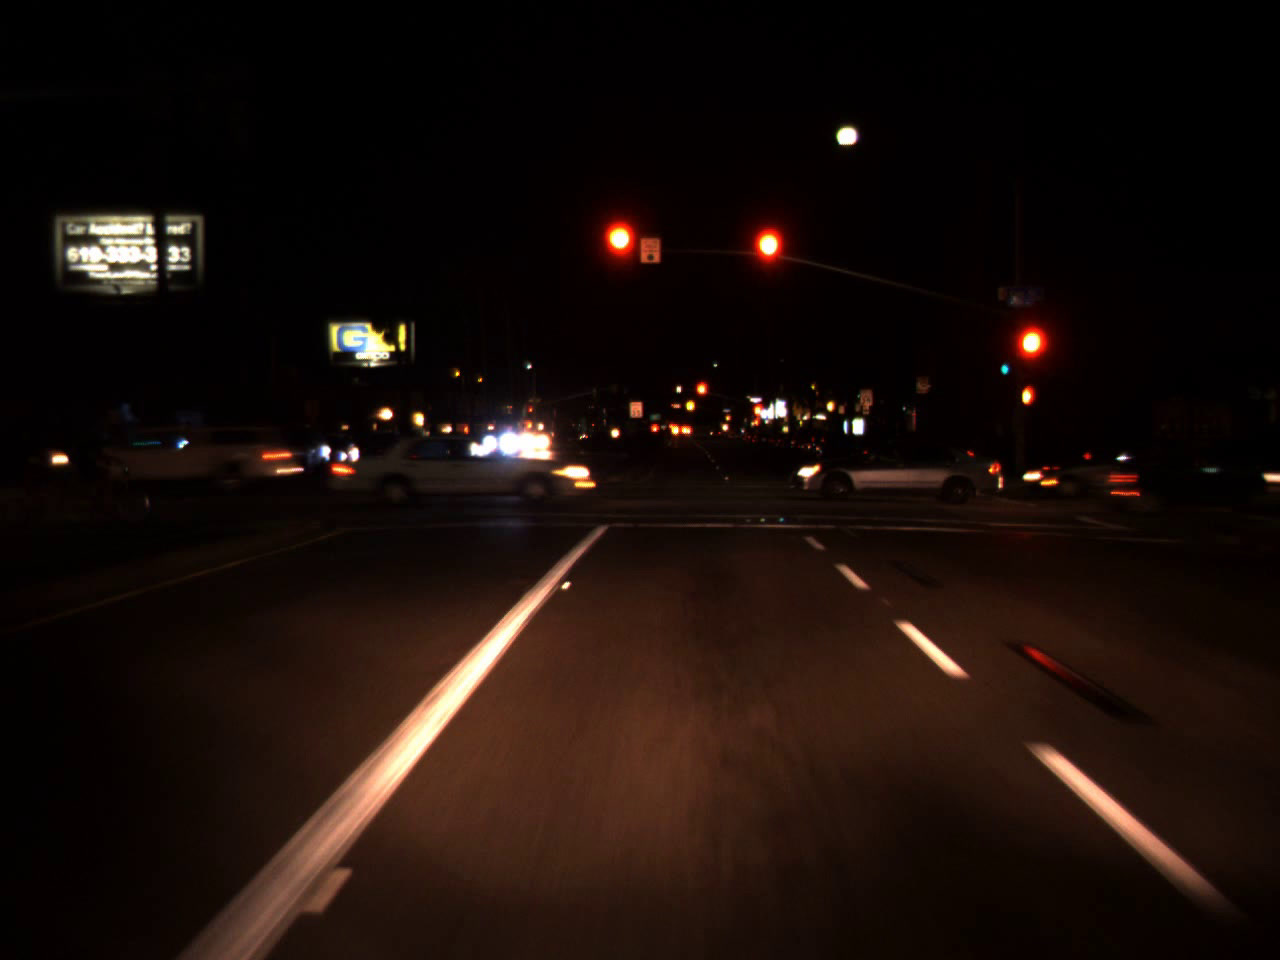stop: (749, 225, 786, 303), (602, 222, 639, 297), (1019, 330, 1041, 375), (694, 379, 707, 411), (752, 403, 764, 430), (526, 404, 535, 419)
warning: (685, 393, 695, 415), (725, 412, 731, 422)
